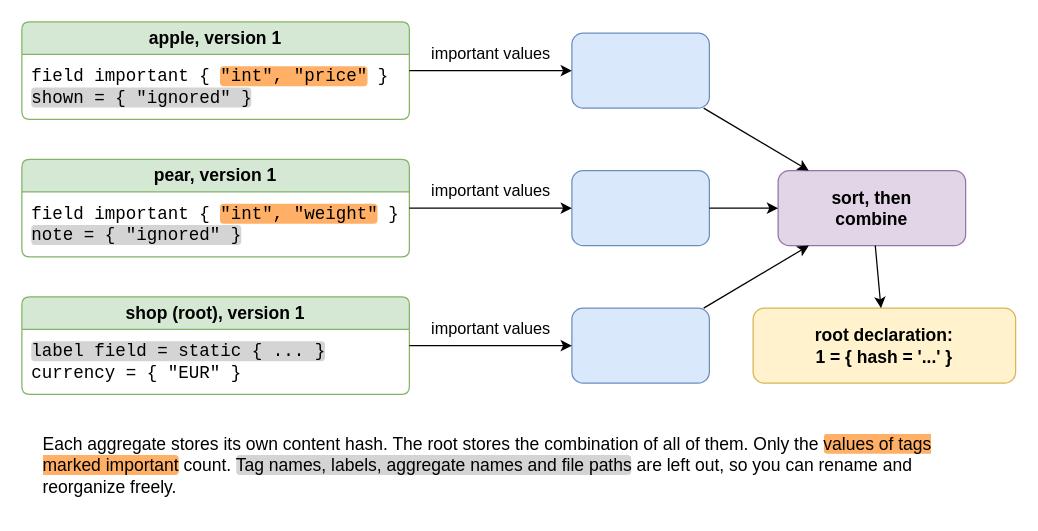
Some shapes in this 1038 by 531 pixel diagram are drawn without their labels. The centre of each missing label's shape, as x and y in pixels:
content hash of apple: [640,70]
content hash of pear: [640,207]
content hash of shop: [640,345]
